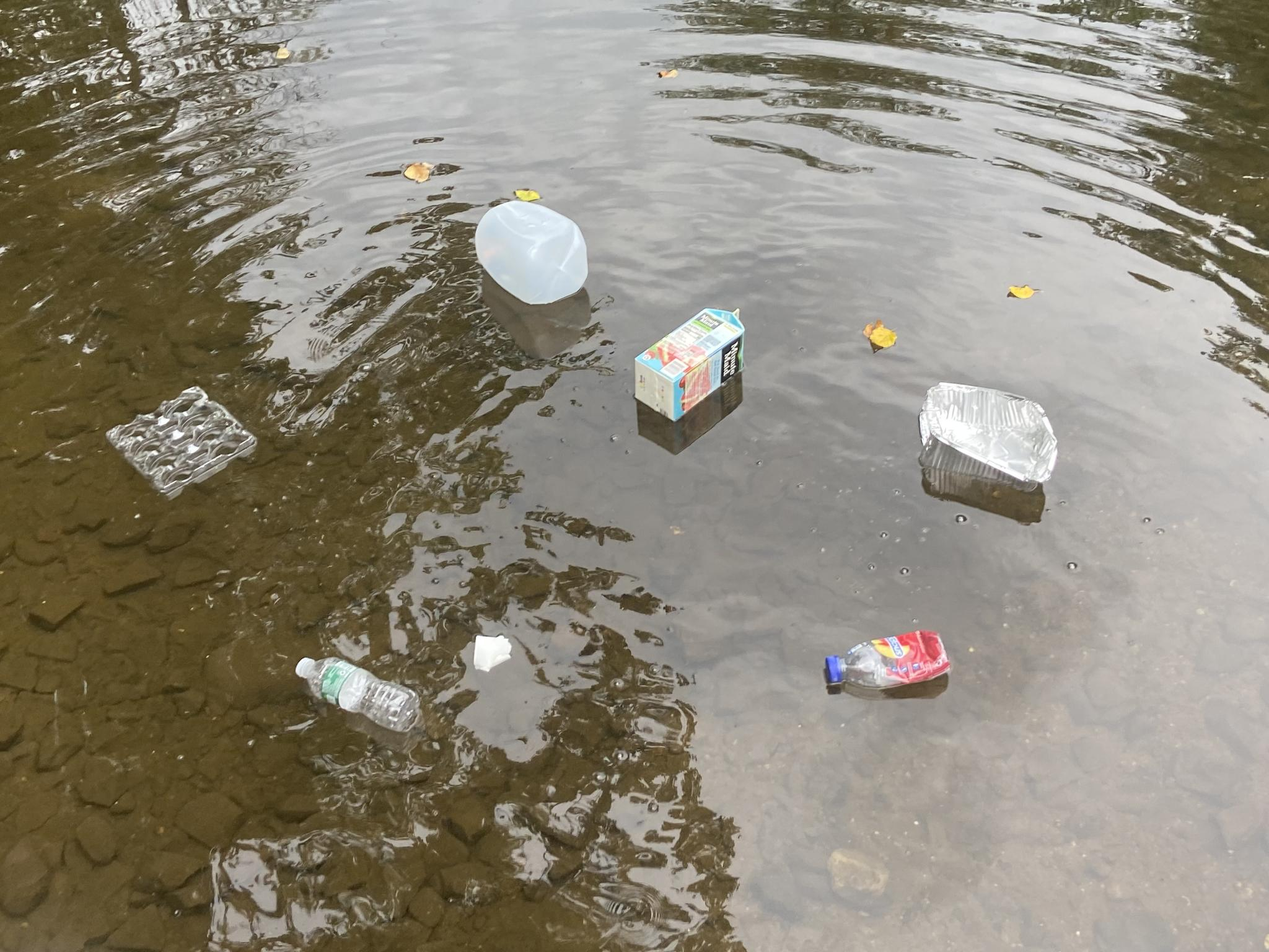cardboard: (627, 298, 751, 434)
metal: (907, 368, 1064, 502)
paper: (465, 620, 518, 680)
plastic: (100, 376, 268, 505), (461, 190, 602, 307), (811, 620, 967, 702), (289, 647, 425, 737)
